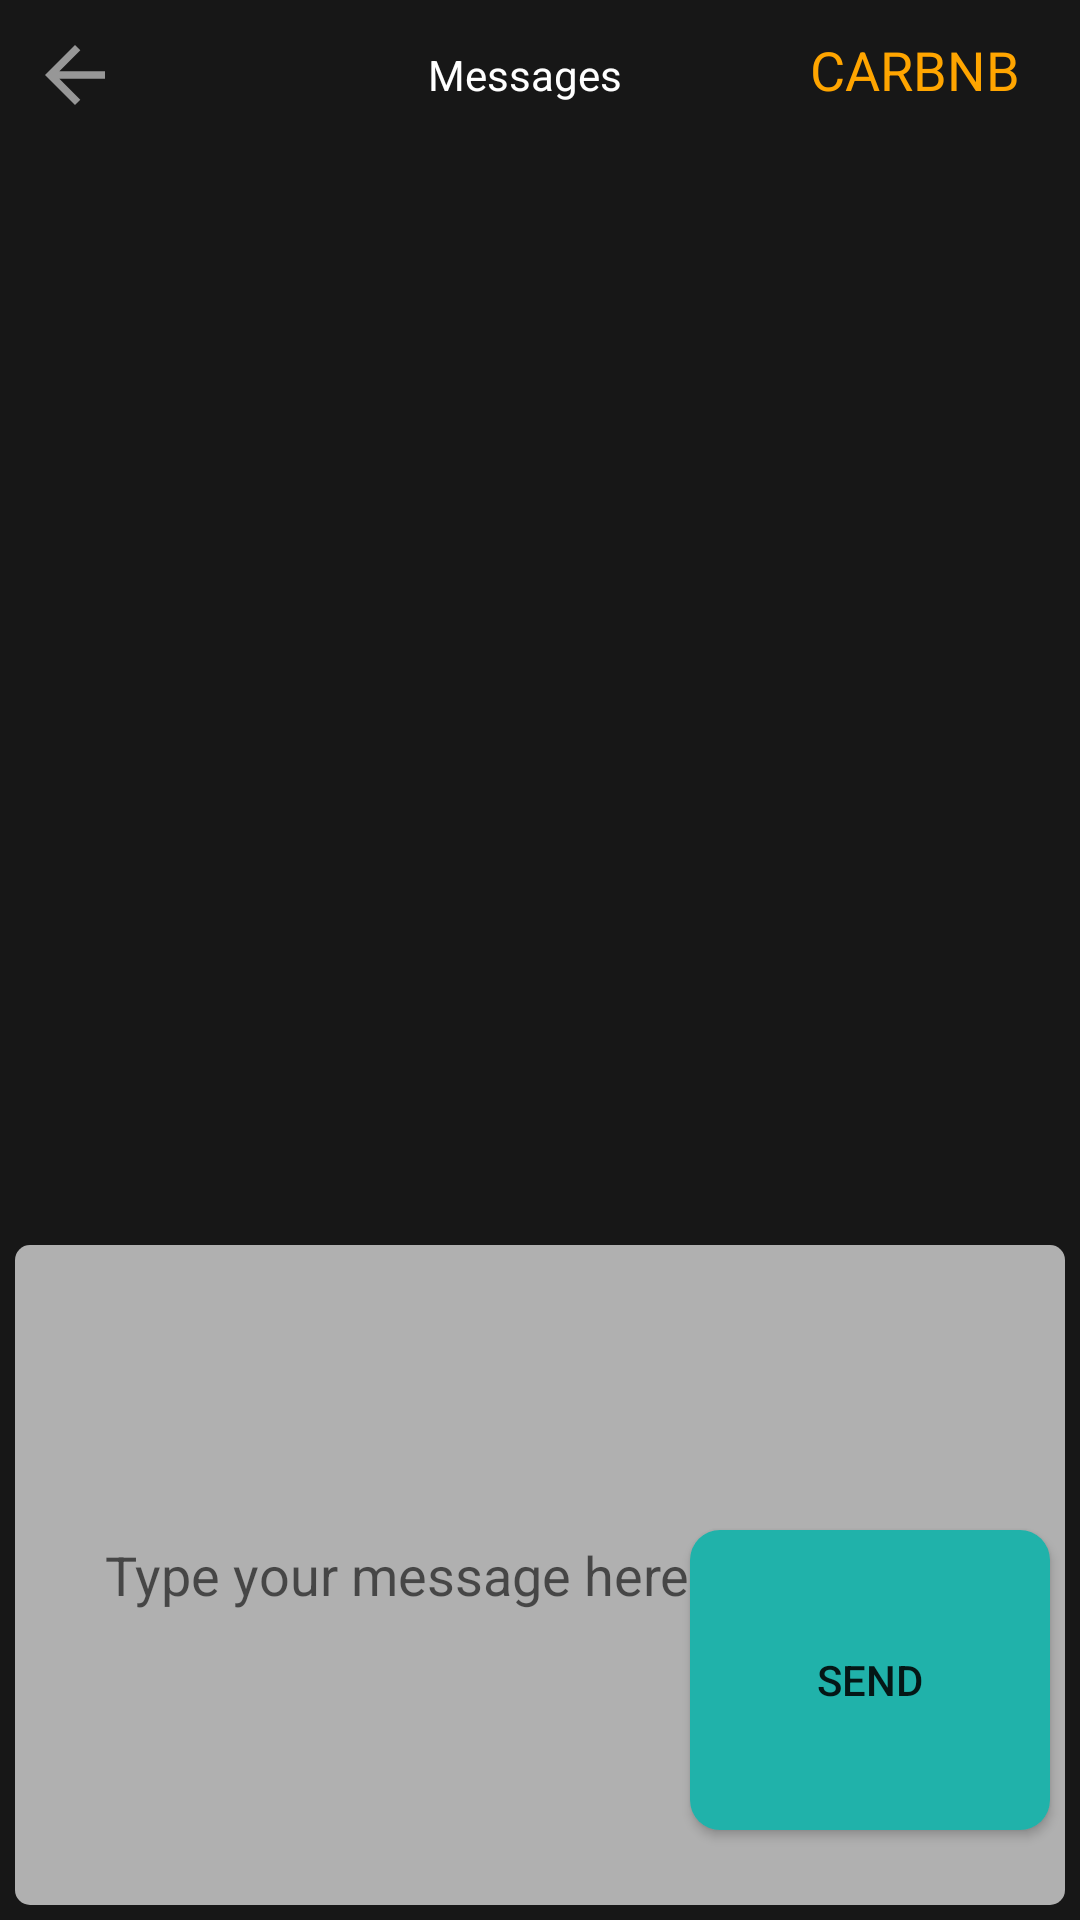

Named icons in this screenshot (1080 x 1920) and their centers, (x=x, y=y):
backarrow: (x=75, y=75)
